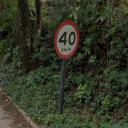speed_limit_40: (54, 20, 80, 59)
